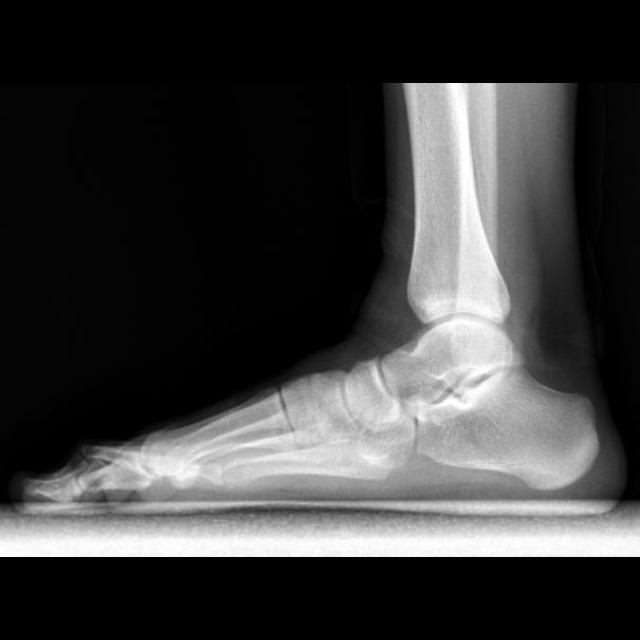a: (416, 364, 599, 491)
b: (344, 359, 403, 439)
c: (145, 390, 302, 477)
